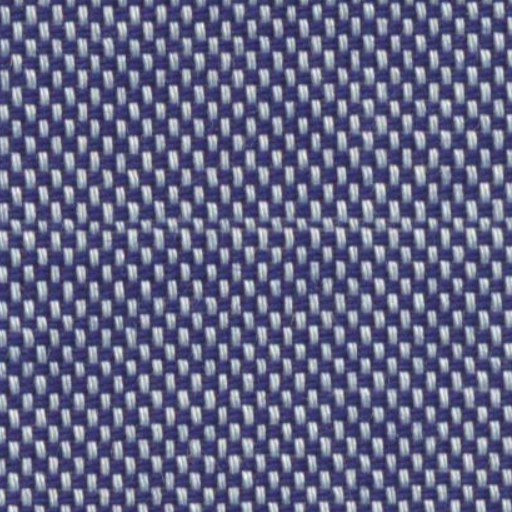TuoSha: (13, 178, 492, 259)
